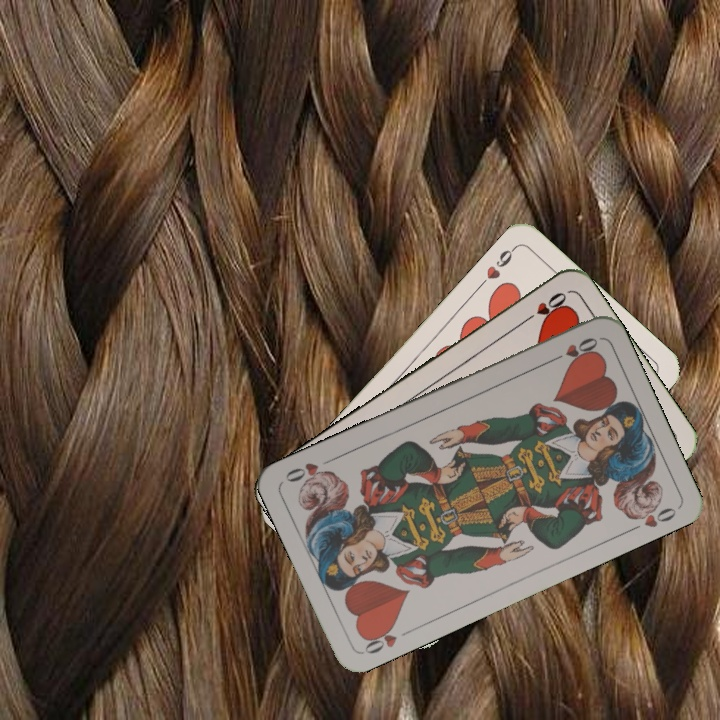H9: (474, 242, 519, 290)
HO: (518, 288, 570, 327), (545, 333, 601, 366), (358, 619, 400, 657)
